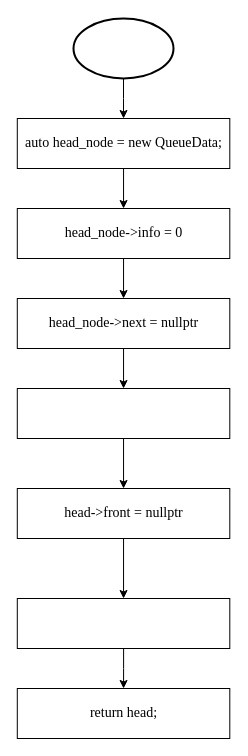
This 248x756 diagram has some shape labels left out. The centre of each missing label's shape, as x and y in pixels:
"auto head = new LinkQueue;" goes at (123,413).
"head->rear = nullptr" goes at (123,623).
"Start" goes at (123,48).
